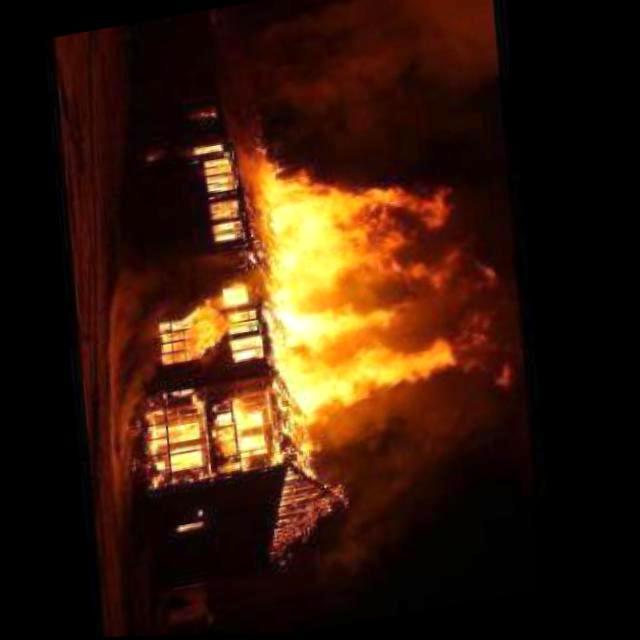fire: (243, 134, 502, 462), (136, 283, 290, 485), (192, 140, 256, 244)
